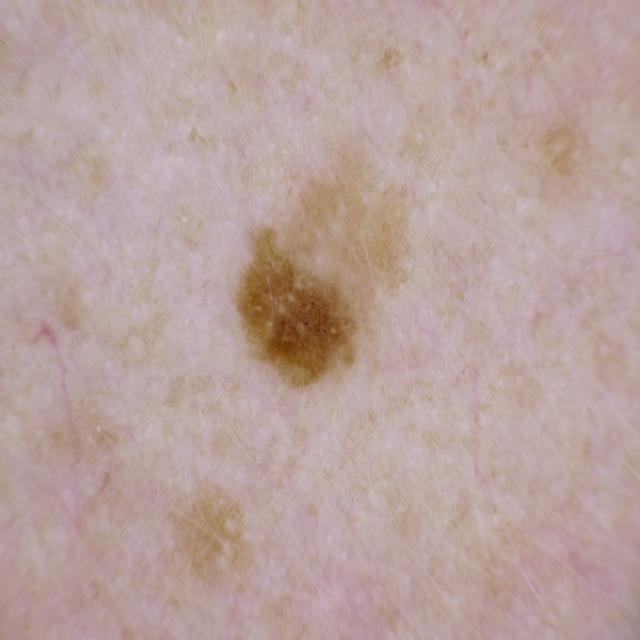NV: (230, 148, 414, 393)
